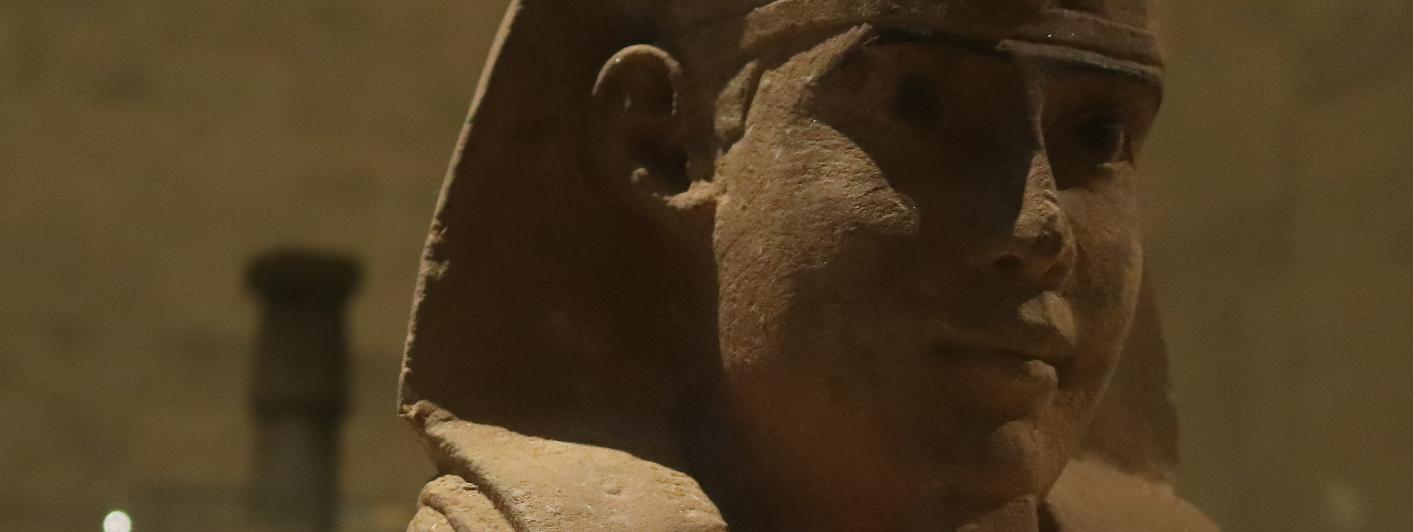statue_ofthe_sphinx: (13, 0, 1354, 532)
